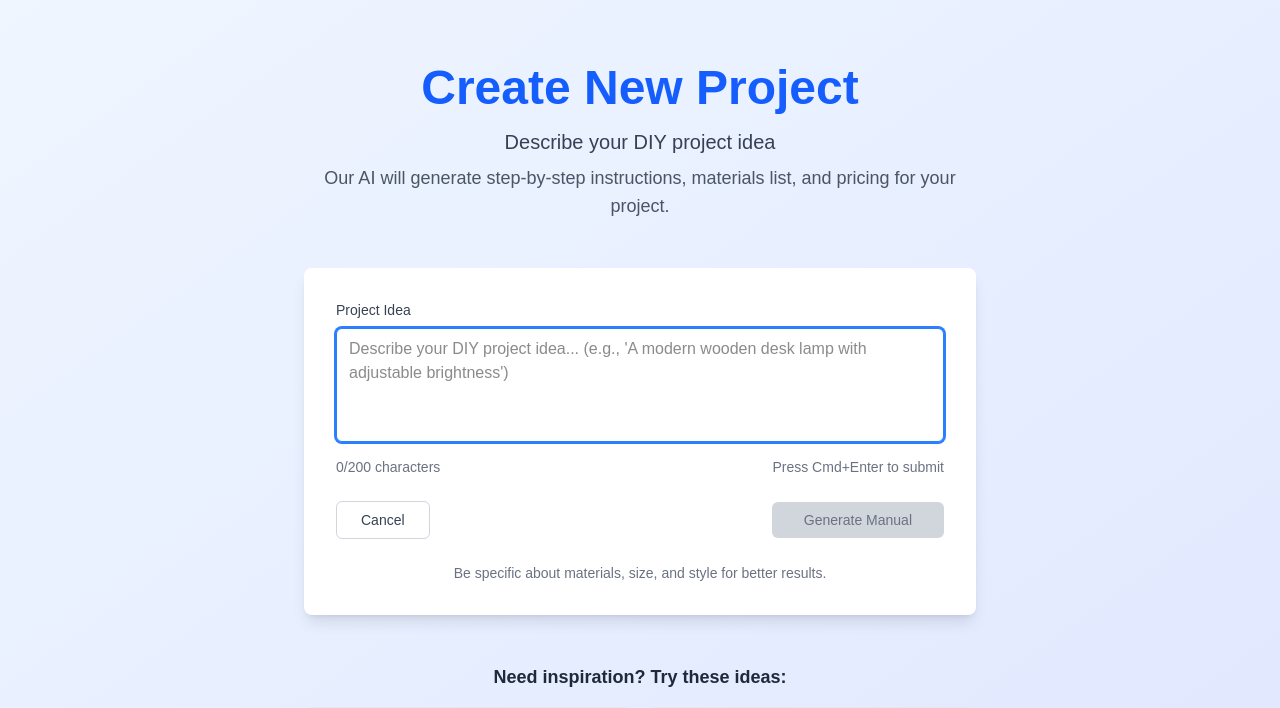
Scenario: TextInput Component › Input Validation › should update character count as user types
Type "Test idea" into the text box labelled "Project Idea" at (640, 385), box [336,328,944,442]
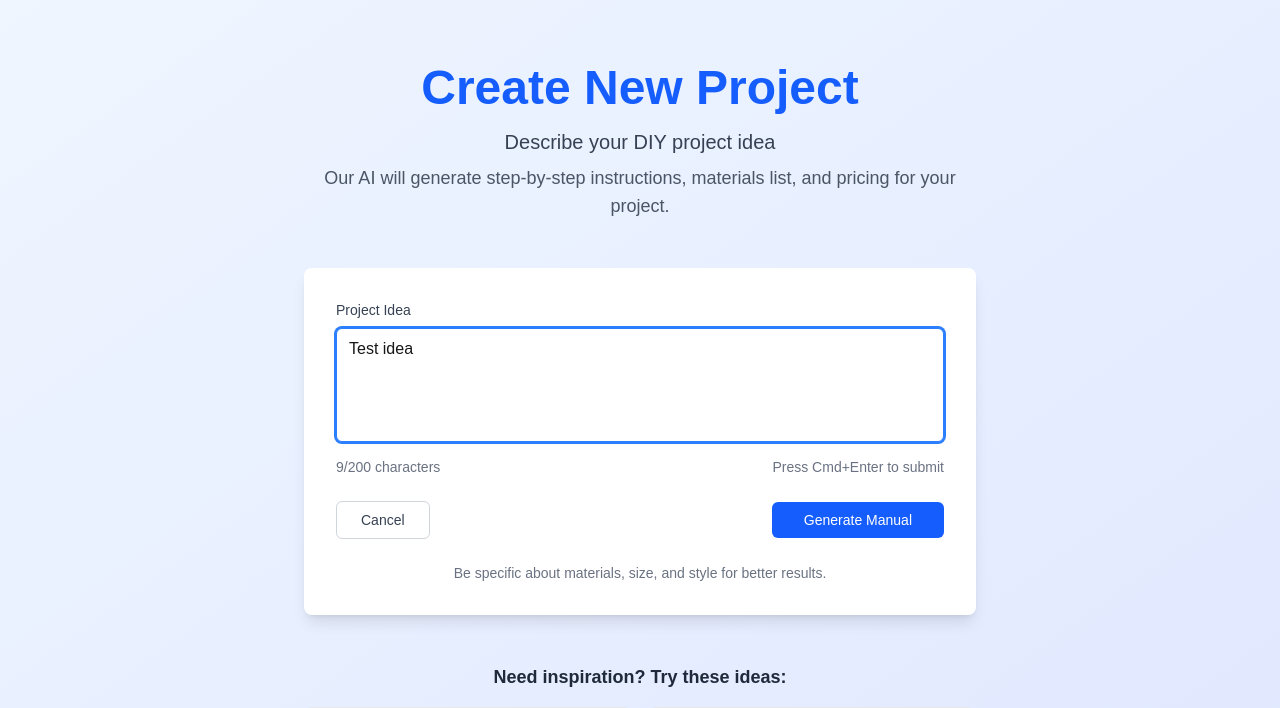
Expected: the text "9/200 characters" is shown, [336,457,440,477]
